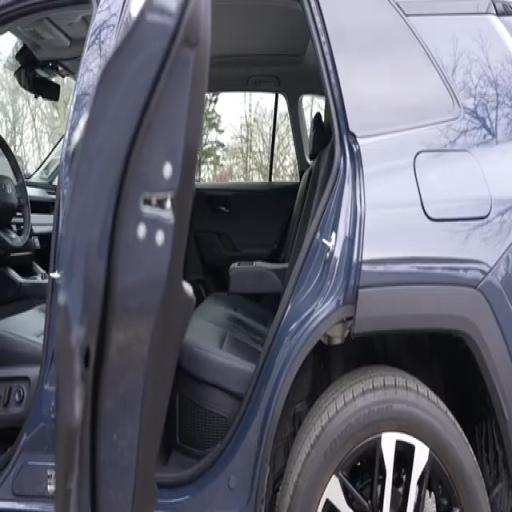door: (56, 0, 363, 511), (52, 0, 210, 511)
emblem: (48, 468, 55, 496), (6, 183, 12, 194)
side_mirror: (15, 67, 59, 100)
tire: (276, 367, 489, 511)
wheel: (277, 367, 489, 511)
window: (323, 0, 460, 136), (0, 33, 74, 176), (196, 93, 298, 182), (300, 94, 324, 139)
windshield: (0, 33, 74, 182)
